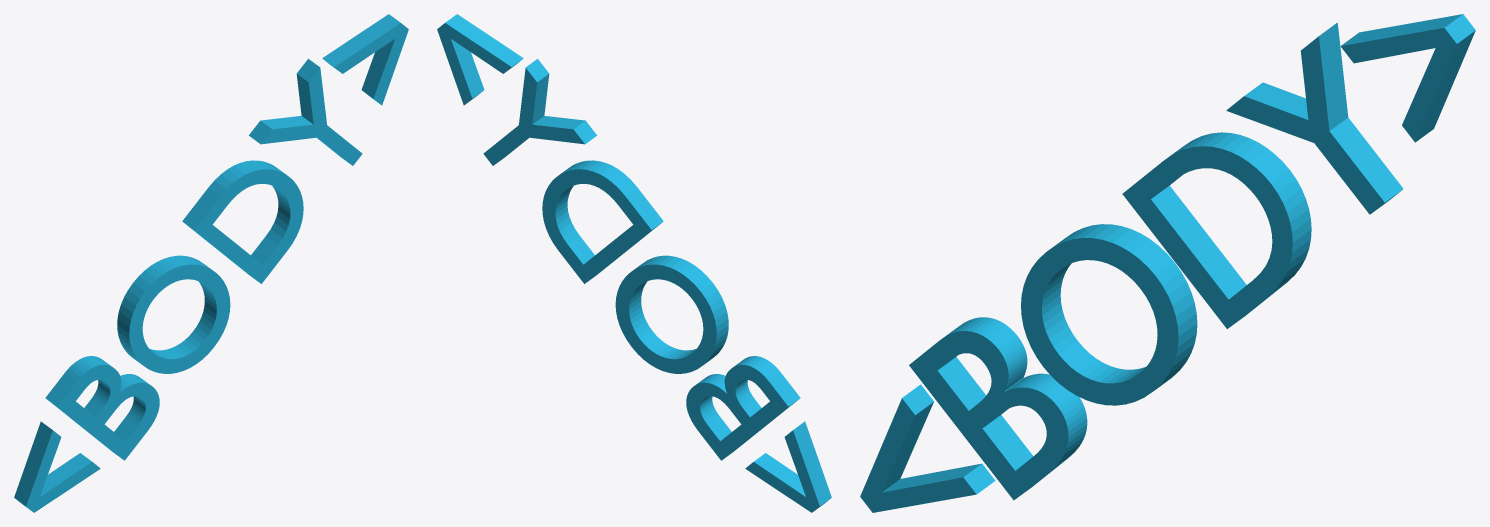
The model's file is BODYMODEL.glb.
3 views of the same model, side by side, from view 1: azimuth 30°, elevation 25°; view 2: azimuth 150°, elevation 25°; view 3: azimuth 330°, elevation 25° (orthographic). The views are drawn at different scales.
Parts seen in each view (by area): view 1: Text; view 2: Text; view 3: Text.
Part boxes in pixels (x1,y1,x2,y2): Text: (14, 14, 408, 512); Text: (437, 14, 831, 512); Text: (860, 14, 1475, 512).
Bounding box in the file's own units: 2.74 × 2.74 × 0.1501.
